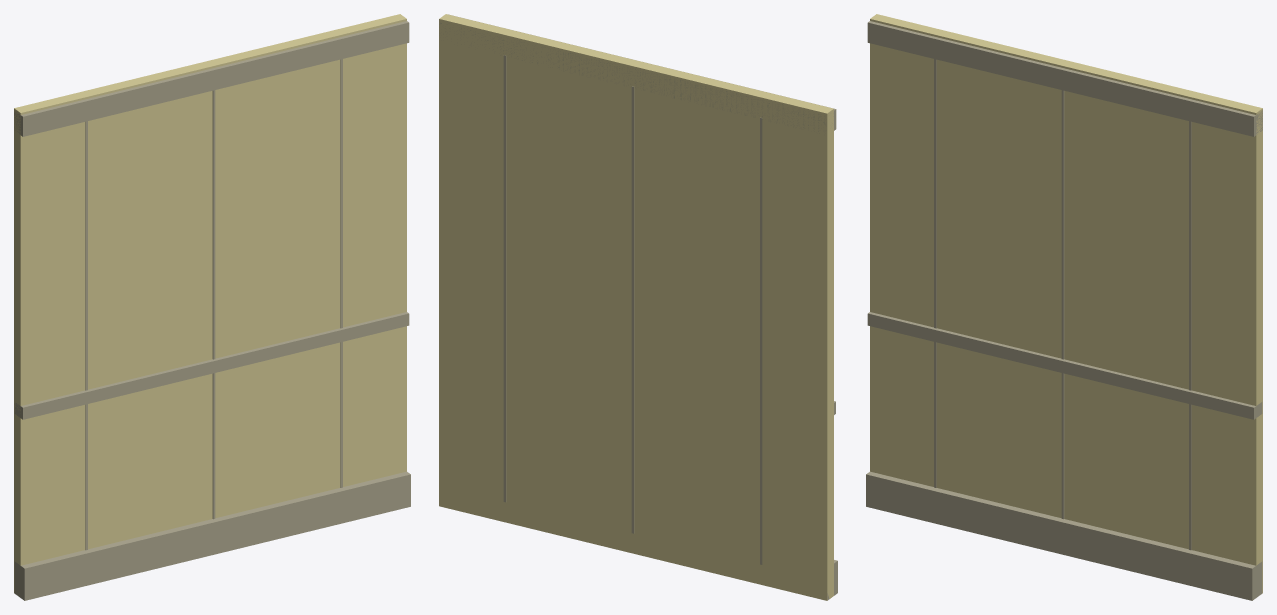
The model's file is PR_wall_panel_L0.fbx.
The picture shows the model from 3 angles, left to right: view 1: azimuth 30°, elevation 25°; view 2: azimuth 150°, elevation 25°; view 3: azimuth 330°, elevation 25°; orthographic projection.
Visible parts, largest first — view 1: PR_wall_panel_L0; view 2: PR_wall_panel_L0; view 3: PR_wall_panel_L0.
Boxes of the visible parts, bbox=[...] form: PR_wall_panel_L0: bbox=[14, 14, 410, 600]; PR_wall_panel_L0: bbox=[439, 14, 837, 600]; PR_wall_panel_L0: bbox=[866, 14, 1262, 600].
Bounding box in the file's own units: 2 × 2.4 × 0.097.
